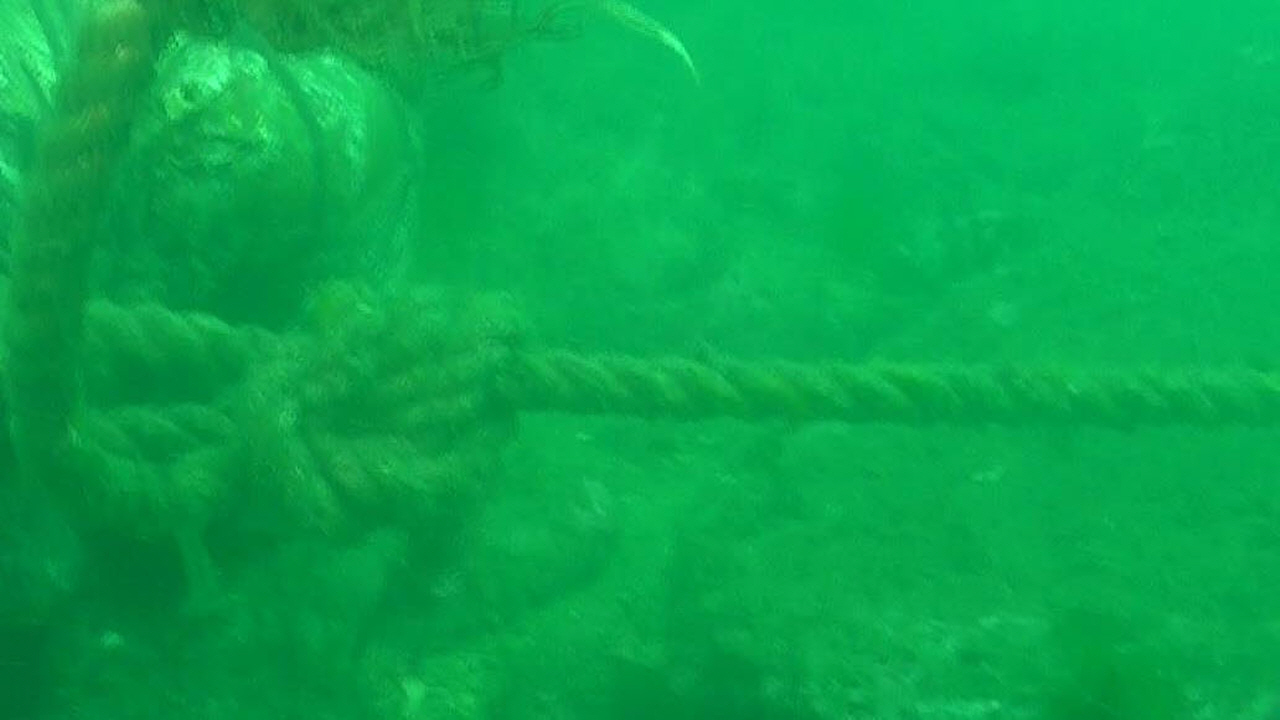bundle of ropes: (0, 1, 1280, 535)
